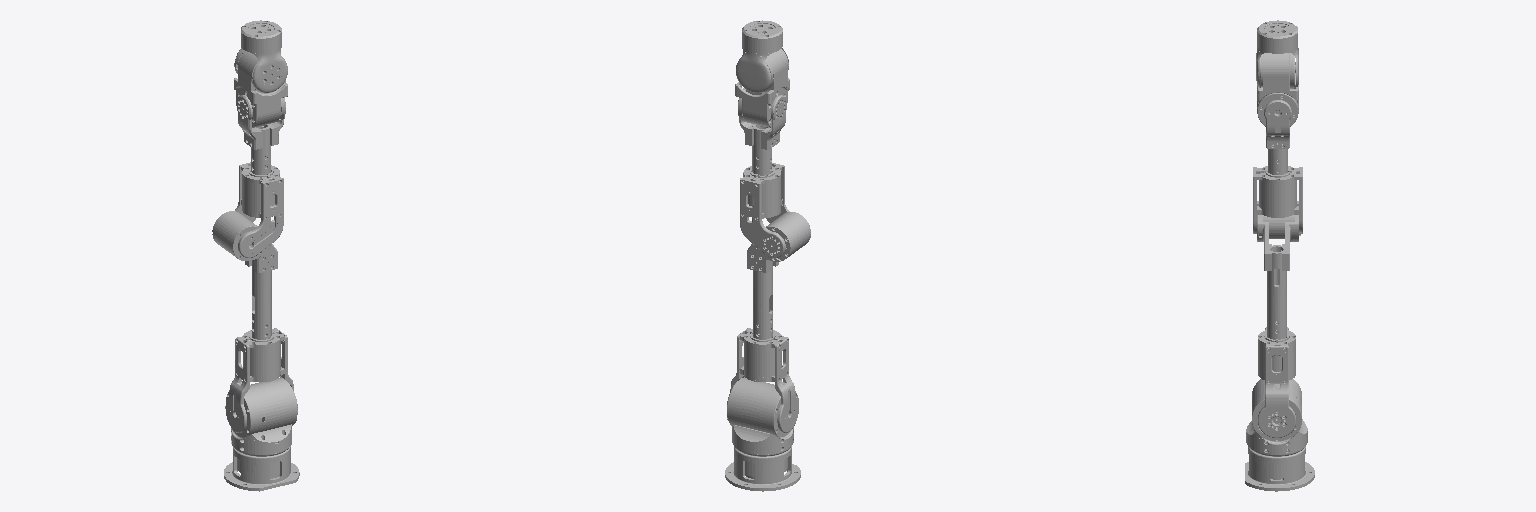
The robot description file, URDF, robot "URDF":
<?xml version='1.0' encoding='utf-8'?>
<robot name="URDF">
  <link name="base_link">
    <!-- sw2robot density="1000" inertia="solidworks" -->
    <visual>
      <origin xyz="0.000000000000 0.000000000000 0.000000000000" rpy="1.570796326795 0.000000000000 0.211045196010" />
      <geometry>
        <mesh filename="meshes/J1_1.stl" />
      </geometry>
      <material name="J1_1_material">
        <color rgba="0.749 0.749 0.749 1" />
      </material>
    </visual>
    <collision>
      <origin xyz="0.000000000000 0.000000000000 0.000000000000" rpy="1.570796326795 0.000000000000 0.211045196010" />
      <geometry>
        <mesh filename="meshes/J1_1.stl" />
      </geometry>
    </collision>
    <inertial>
      <origin xyz="0.000000000005 0.000299380486 0.031532172420" rpy="1.570796326795 0.000000000000 0.211045196010" />
      <mass value="0.31319" />
      <inertia ixx="0.000244261" ixy="-5.39601e-07" ixz="8.75452e-07" iyy="0.000297781" iyz="2.51873e-06" izz="0.00024816" />
    </inertial>
  </link>
  <link name="link1">
    <!-- sw2robot density="1000" inertia="solidworks" -->
    <visual>
      <origin xyz="0.000000000000 0.000000000000 0.000000000000" rpy="1.570796326795 0.000000000000 1.781841522804" />
      <geometry>
        <mesh filename="meshes/J2_1.stl" />
      </geometry>
      <material name="J2_1_material">
        <color rgba="0.749 0.749 0.749 1" />
      </material>
    </visual>
    <collision>
      <origin xyz="0.000000000000 0.000000000000 0.000000000000" rpy="1.570796326795 0.000000000000 1.781841522804" />
      <geometry>
        <mesh filename="meshes/J2_1.stl" />
      </geometry>
    </collision>
    <inertial>
      <origin xyz="-0.000289242697 0.002723742960 0.037998585020" rpy="1.570796326795 0.000000000000 1.781841522804" />
      <mass value="0.387739" />
      <inertia ixx="0.000407342" ixy="7.05549e-06" ixz="-1.29273e-05" iyy="0.00036881" iyz="3.56759e-06" izz="0.000410595" />
    </inertial>
  </link>
  <link name="link2">
    <!-- sw2robot density="1000" inertia="solidworks" -->
    <visual>
      <origin xyz="0.000000000000 0.000000000000 0.041000071682" rpy="3.141592653590 1.359751130785 1.570796325750" />
      <geometry>
        <mesh filename="meshes/J3_1.stl" />
      </geometry>
      <material name="J3_1_material">
        <color rgba="0.749 0.749 0.749 1" />
      </material>
    </visual>
    <collision>
      <origin xyz="0.000000000000 0.000000000000 0.041000071682" rpy="3.141592653590 1.359751130785 1.570796325750" />
      <geometry>
        <mesh filename="meshes/J3_1.stl" />
      </geometry>
    </collision>
    <inertial>
      <origin xyz="0.071305949290 0.000000090303 -0.000550569290" rpy="3.141592653590 1.359751130785 1.570796325750" />
      <mass value="0.214989" />
      <inertia ixx="0.000302682" ixy="-8.36644e-06" ixz="2.55449e-05" iyy="0.00016589" iyz="-1.79225e-06" izz="0.000366641" />
    </inertial>
  </link>
  <link name="link3">
    <!-- sw2robot density="1000" inertia="solidworks" -->
    <visual>
      <origin xyz="0.000000000000 0.000000000000 0.000000000000" rpy="1.570796326795 0.000000000000 1.781841522804" />
      <geometry>
        <mesh filename="meshes/J4_1.stl" />
      </geometry>
      <material name="J4_1_material">
        <color rgba="0.749 0.749 0.749 1" />
      </material>
    </visual>
    <collision>
      <origin xyz="0.000000000000 0.000000000000 0.000000000000" rpy="1.570796326795 0.000000000000 1.781841522804" />
      <geometry>
        <mesh filename="meshes/J4_1.stl" />
      </geometry>
    </collision>
    <inertial>
      <origin xyz="-0.000046354756 -0.023960592680 0.141354051700" rpy="1.570796326795 0.000000000000 1.781841522804" />
      <mass value="0.253032" />
      <inertia ixx="0.00086864" ixy="-0.000197368" ixz="2.9233e-05" iyy="0.000186467" iyz="-4.23337e-05" izz="0.00088421" />
    </inertial>
  </link>
  <link name="link4">
    <!-- sw2robot density="1000" inertia="solidworks" -->
    <visual>
      <origin xyz="0.000000000000 0.000000000000 -0.028346903248" rpy="3.141592653590 -0.211045196010 1.570796325750" />
      <geometry>
        <mesh filename="meshes/J5_1.stl" />
      </geometry>
      <material name="J5_1_material">
        <color rgba="0.749 0.749 0.749 1" />
      </material>
    </visual>
    <collision>
      <origin xyz="0.000000000000 0.000000000000 -0.028346903248" rpy="3.141592653590 -0.211045196010 1.570796325750" />
      <geometry>
        <mesh filename="meshes/J5_1.stl" />
      </geometry>
    </collision>
    <inertial>
      <origin xyz="0.055046632456 0.034180353716 0.000166858329" rpy="3.141592653590 -0.211045196010 1.570796325750" />
      <mass value="0.217881" />
      <inertia ixx="0.000258983" ixy="4.27962e-05" ixz="1.84504e-05" iyy="0.000170294" iyz="1.56072e-05" izz="0.000244756" />
    </inertial>
  </link>
  <link name="link5">
    <!-- sw2robot density="1000" inertia="solidworks" -->
    <visual>
      <origin xyz="0.000000000000 0.000000000000 0.000000000000" rpy="1.570796326795 0.000000000000 1.781841522805" />
      <geometry>
        <mesh filename="meshes/J6_1.stl" />
      </geometry>
      <material name="J6_1_material">
        <color rgba="0.749 0.749 0.749 1" />
      </material>
    </visual>
    <collision>
      <origin xyz="0.000000000000 0.000000000000 0.000000000000" rpy="1.570796326795 0.000000000000 1.781841522805" />
      <geometry>
        <mesh filename="meshes/J6_1.stl" />
      </geometry>
    </collision>
    <inertial>
      <origin xyz="0.000003136586 -0.000830532064 0.088609821840" rpy="1.570796326795 0.000000000000 1.781841522805" />
      <mass value="0.19713" />
      <inertia ixx="0.000316167" ixy="-3.38165e-06" ixz="-6.62343e-06" iyy="7.75476e-05" iyz="-5.43201e-07" izz="0.000312668" />
    </inertial>
  </link>
  <link name="link6">
    <!-- sw2robot density="1000" inertia="solidworks" -->
    <visual>
      <origin xyz="0.000000000000 0.000000000000 0.025000098595" rpy="3.141592653590 1.359751130785 1.570796325750" />
      <geometry>
        <mesh filename="meshes/J7_1.stl" />
      </geometry>
      <material name="J7_1_material">
        <color rgba="0.749 0.749 0.749 1" />
      </material>
    </visual>
    <collision>
      <origin xyz="0.000000000000 0.000000000000 0.025000098595" rpy="3.141592653590 1.359751130785 1.570796325750" />
      <geometry>
        <mesh filename="meshes/J7_1.stl" />
      </geometry>
    </collision>
    <inertial>
      <origin xyz="0.049346930757 -0.002389713217 0.001517169473" rpy="3.141592653590 1.359751130785 1.570796325750" />
      <mass value="0.193944" />
      <inertia ixx="0.000106125" ixy="5.15623e-06" ixz="-1.62809e-05" iyy="0.000186158" iyz="2.19269e-06" izz="0.000185379" />
    </inertial>
  </link>
  <link name="link7">
    <!-- sw2robot density="1000" inertia="solidworks" -->
    <visual>
      <origin xyz="0.000000000000 0.000000000000 0.022844969096" rpy="-3.141592653590 -0.211045196010 1.570796325749" />
      <geometry>
        <mesh filename="meshes/c_1.stl" />
      </geometry>
      <material name="c_1_material">
        <color rgba="0.749 0.749 0.749 1" />
      </material>
    </visual>
    <collision>
      <origin xyz="0.000000000000 0.000000000000 0.022844969096" rpy="-3.141592653590 -0.211045196010 1.570796325749" />
      <geometry>
        <mesh filename="meshes/c_1.stl" />
      </geometry>
    </collision>
    <inertial>
      <origin xyz="0.031195636080 0.000000056199 -0.000643035099" rpy="-3.141592653590 -0.211045196010 1.570796325749" />
      <mass value="0.0758709" />
      <inertia ixx="7.05477e-05" ixy="1.46482e-05" ixz="-1.14946e-06" iyy="8.1216e-05" iyz="2.49164e-06" izz="7.56656e-05" />
    </inertial>
  </link>
  <!-- Tool frame at the center of link7's upper flange plane. -->
  <link name="tool0" />
  <joint name="tool0_fixed" type="fixed">
    <origin xyz="0.064219154418 0.000000000000 0.000000000000" rpy="1.570796326795 0.000000000000 1.570796326795" />
    <parent link="link7" />
    <child link="tool0" />
  </joint>
  <joint name="joint1" type="revolute">
    <origin xyz="0.000000000000 0.000000000000 0.065000000000" rpy="0.000000000000 0.000000000000 -1.570796326794" />
    <parent link="base_link" />
    <child link="link1" />
    <axis xyz="0 0 1" />
    <limit lower="-2.443460952792" upper="2.443460952792" effort="10" velocity="3.14" />
    <!-- mates: COINCIDENT, CONCENTRIC, WIDTH, COINCIDENT, CONCENTRIC, WIDTH -->
    <!-- sw2robot-note: geo: fully constrained; config sets revolute (inference said fixed) -->
  </joint>
  <joint name="joint2" type="revolute">
    <origin xyz="0.000000000123 0.000000071680 0.046750000000" rpy="1.570796326794 -1.570796325750 0.000000000000" />
    <parent link="link1" />
    <child link="link2" />
    <axis xyz="0 0 1" />
    <limit lower="-1.396263401595" upper="1.396263401595" effort="10" velocity="3.14" />
    <!-- mates: COINCIDENT, CONCENTRIC, WIDTH, COINCIDENT, CONCENTRIC, WIDTH -->
    <!-- sw2robot-note: geo: fully constrained; config sets revolute (inference said fixed) -->
  </joint>
  <joint name="joint3" type="revolute">
    <origin xyz="0.117750000000 0.000000000000 0.000000071680" rpy="-1.570796326795 0.000000000000 -1.570796327840" />
    <parent link="link2" />
    <child link="link3" />
    <axis xyz="0 0 1" />
    <limit lower="-2.879793265791" upper="2.879793265791" effort="10" velocity="3.14" />
    <!-- mates: CONCENTRIC, COINCIDENT, WIDTH, CONCENTRIC, COINCIDENT, WIDTH -->
    <!-- sw2robot-note: geo: fully constrained; config sets revolute (inference said fixed) -->
  </joint>
  <joint name="joint4" type="revolute">
    <origin xyz="-0.001776903130 -0.037999999922 0.174750000030" rpy="0.000000000000 -1.570796325750 0.000000000000" />
    <parent link="link3" />
    <child link="link4" />
    <axis xyz="0 0 1" />
    <limit lower="-2.967059728390" upper="0.900000000000" effort="10" velocity="3.14" />
    <!-- mates: CONCENTRIC, COINCIDENT, PARALLEL, CONCENTRIC, COINCIDENT, PARALLEL -->
    <!-- sw2robot-note: geo: fully constrained; config sets revolute (inference said fixed) -->
  </joint>
  <joint name="joint5" type="revolute">
    <origin xyz="0.097350000040 0.037999999813 -0.000346903135" rpy="0.000000001045 1.570796326795 0.000000000000" />
    <parent link="link4" />
    <child link="link5" />
    <axis xyz="0 0 1" />
    <limit lower="-2.879793265791" upper="2.879793265791" effort="10" velocity="3.14" />
    <!-- mates: CONCENTRIC, COINCIDENT, WIDTH, CONCENTRIC, COINCIDENT, WIDTH -->
    <!-- sw2robot-note: geo: fully constrained; config sets revolute (inference said fixed) -->
  </joint>
  <joint name="joint6" type="revolute">
    <origin xyz="0.000000000074 0.000000098598 0.111750000000" rpy="1.570796326795 -1.570796325750 0.000000000000" />
    <parent link="link5" />
    <child link="link6" />
    <axis xyz="0 0 1" />
    <limit lower="-1.570796326795" upper="1.570796326795" effort="10" velocity="3.14" />
    <!-- mates: CONCENTRIC, COINCIDENT, PARALLEL, CONCENTRIC, COINCIDENT, PARALLEL -->
    <!-- sw2robot-note: geo: fully constrained; config sets revolute (inference said fixed) -->
  </joint>
  <joint name="joint7" type="revolute">
    <origin xyz="0.061999999999 -0.000344969088 0.000000098665" rpy="-1.570796326795 0.000000001045 -0.000000001044" />
    <parent link="link6" />
    <child link="link7" />
    <axis xyz="0 0 1" />
    <limit lower="-1.308996938996" upper="1.308996938996" effort="10" velocity="3.14" />
    <!-- mates: CONCENTRIC, COINCIDENT, PARALLEL, CONCENTRIC, COINCIDENT, PARALLEL -->
    <!-- sw2robot-note: geo: fully constrained; config sets revolute (inference said fixed) -->
  </joint>
</robot>

--- What the picture shows (computed from the rendered views, not written in the file) ---
The picture shows the robot from 3 angles, left to right: view 1: azimuth 30°, elevation 25°; view 2: azimuth 150°, elevation 25°; view 3: azimuth 270°, elevation 25°; orthographic projection.
Model URDF with 9 links and 8 joints (7 revolute, 1 fixed), rooted at base_link, posed every joint at zero.
Visible links, largest first — view 1: link1, link2, link3, link4, base_link, link7, link5, link6; view 2: link1, link2, link3, link4, base_link, link7, link6, link5; view 3: link2, link3, base_link, link5, link4, link1, link6, link7.
Link boxes in pixels (x1,y1,x2,y2): link1: (226, 378, 297, 454); link2: (225, 328, 297, 432); link3: (212, 211, 277, 341); link4: (235, 162, 283, 257); base_link: (224, 446, 299, 491); link7: (234, 20, 287, 92); link5: (237, 95, 285, 177); link6: (234, 49, 287, 127); link1: (727, 377, 798, 454); link2: (727, 328, 798, 432); link3: (747, 212, 810, 341); link4: (740, 163, 789, 258); base_link: (725, 446, 800, 491); link7: (736, 20, 788, 92); link6: (735, 49, 789, 127); link5: (738, 88, 786, 177); link2: (1258, 327, 1295, 437); link3: (1257, 215, 1300, 341); base_link: (1245, 447, 1314, 491); link5: (1257, 93, 1298, 177); link4: (1253, 166, 1302, 233); link1: (1246, 379, 1307, 454); link6: (1257, 53, 1298, 107); link7: (1256, 20, 1298, 87).
Bounding box of the posed robot: 0.1235 × 0.1049 × 0.7396 m (x, y, z).
8 mesh visuals loaded from 8 distinct referenced files (8 binary STL).
